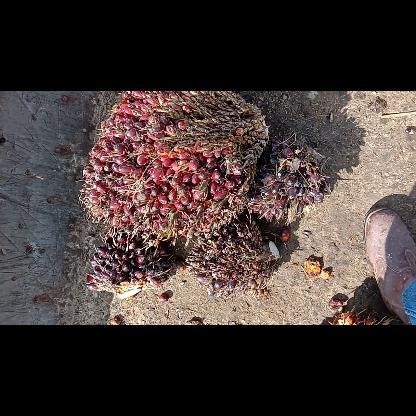TBS abnormal: (190, 223, 278, 289), (89, 235, 182, 296), (254, 144, 324, 224)
TBS masak: (84, 92, 266, 234)
